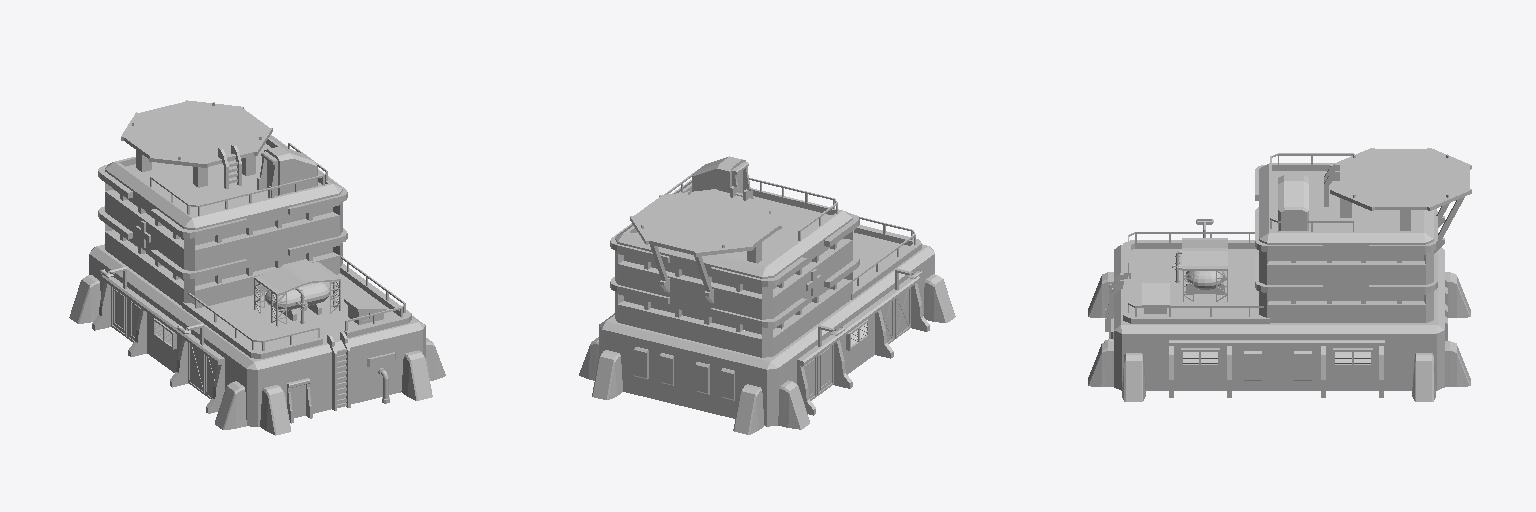
The model's file is LowPolyHospital.obj.
The picture shows the model from 3 angles: view 1: azimuth 30°, elevation 25°; view 2: azimuth 150°, elevation 25°; view 3: azimuth 270°, elevation 25°; orthographic projection.
Visible parts, largest first — view 1: objMesh; view 2: objMesh; view 3: objMesh.
Boxes of the visible parts, <box> form: objMesh: <box>69,100,445,435</box>; objMesh: <box>579,156,955,434</box>; objMesh: <box>1088,148,1471,401</box>.
Size of the model in its own units: 4.25 by 3.32 by 6.25.